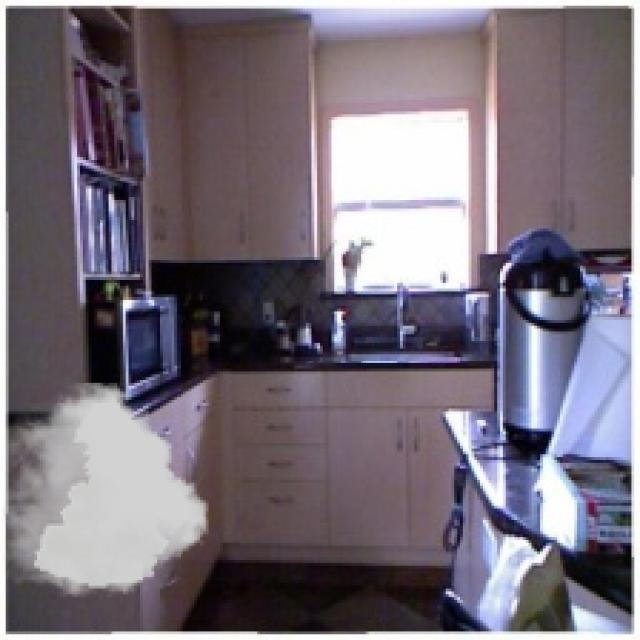smoke: (3, 383, 208, 597)
